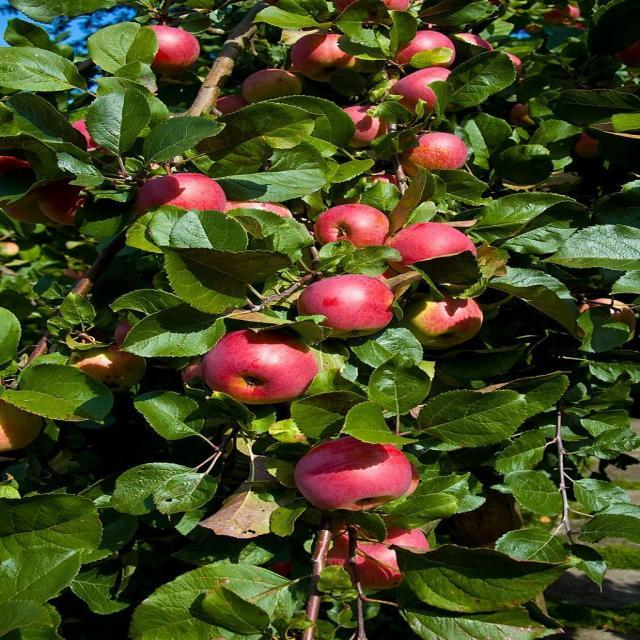Red Apple: (300, 439, 417, 512), (202, 332, 320, 402), (333, 525, 423, 587), (301, 277, 392, 335), (412, 295, 497, 345), (387, 225, 478, 269), (141, 175, 219, 219), (138, 26, 207, 70), (319, 203, 384, 248), (295, 32, 358, 78), (406, 133, 465, 172), (339, 106, 396, 144), (393, 71, 455, 105), (401, 30, 453, 69), (246, 68, 300, 101), (341, 1, 417, 21), (454, 32, 492, 58)
